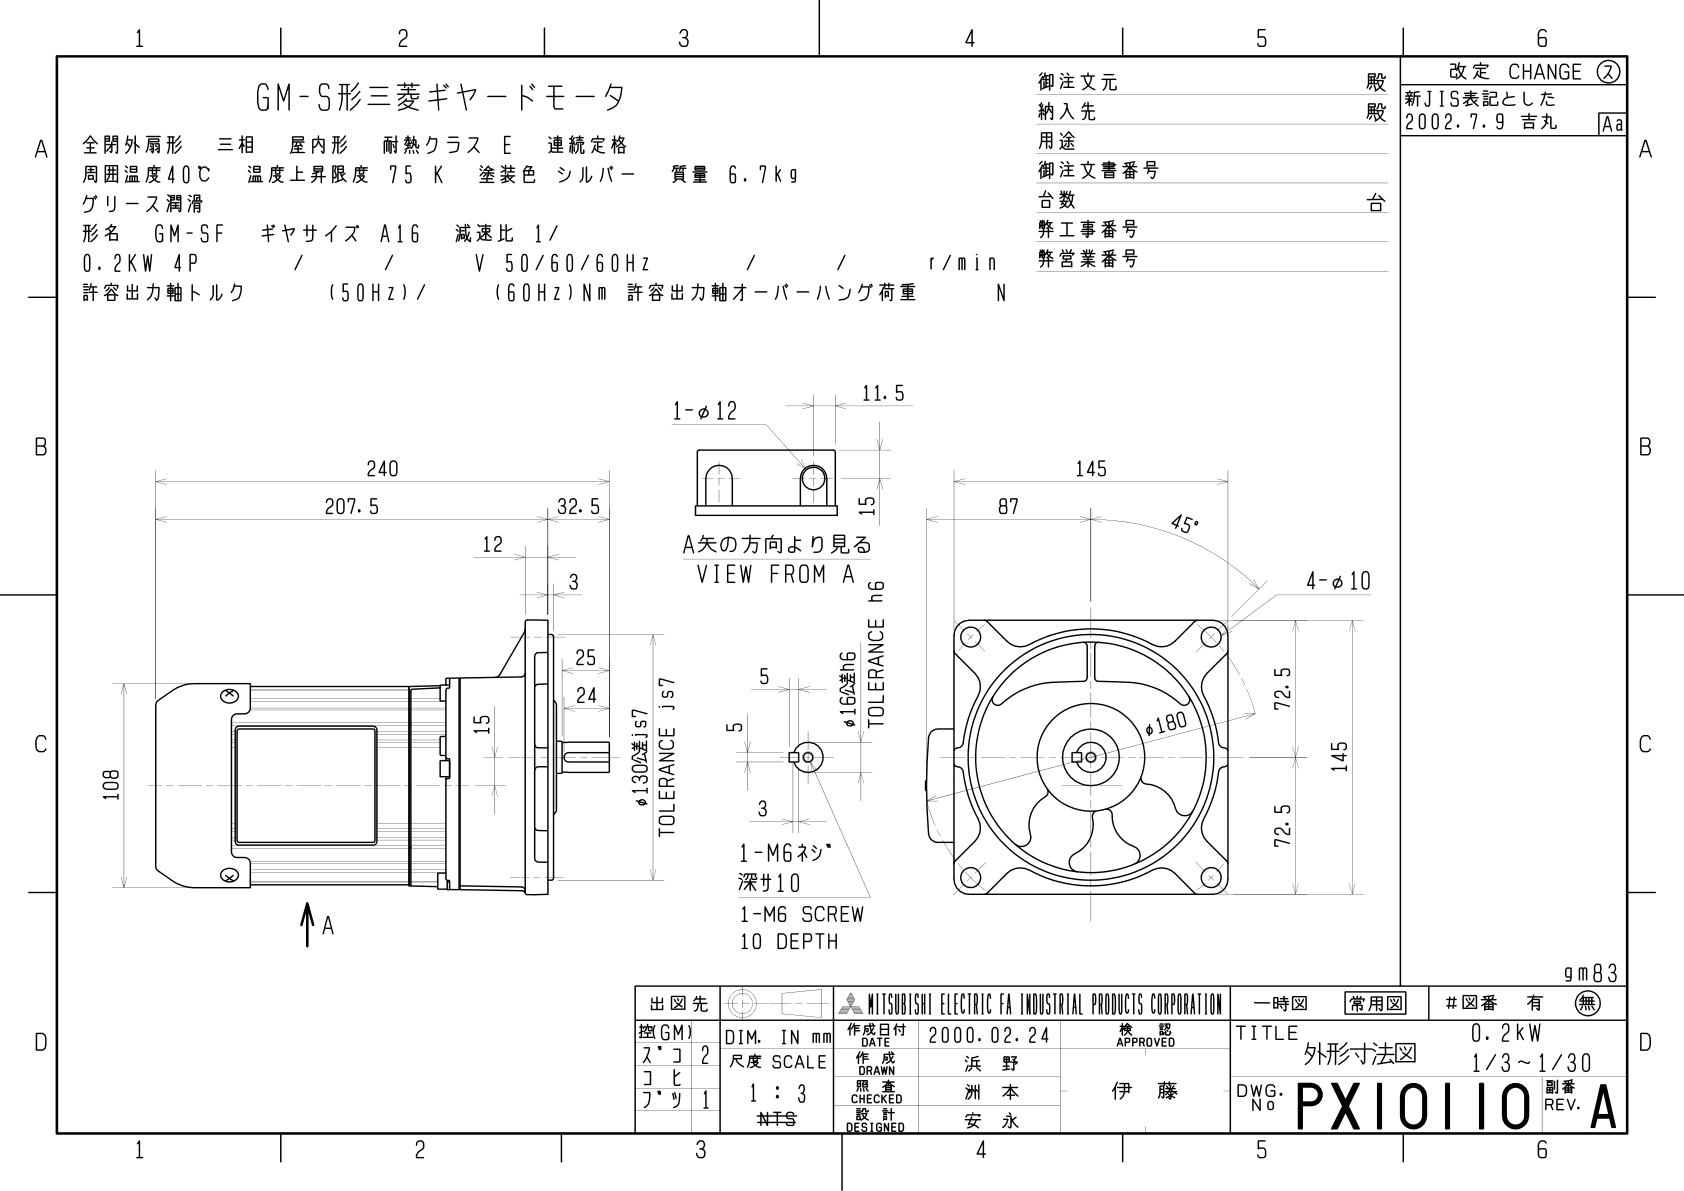GM_S_屋内＿三相_フランジ: (9, 3, 1684, 1191)
